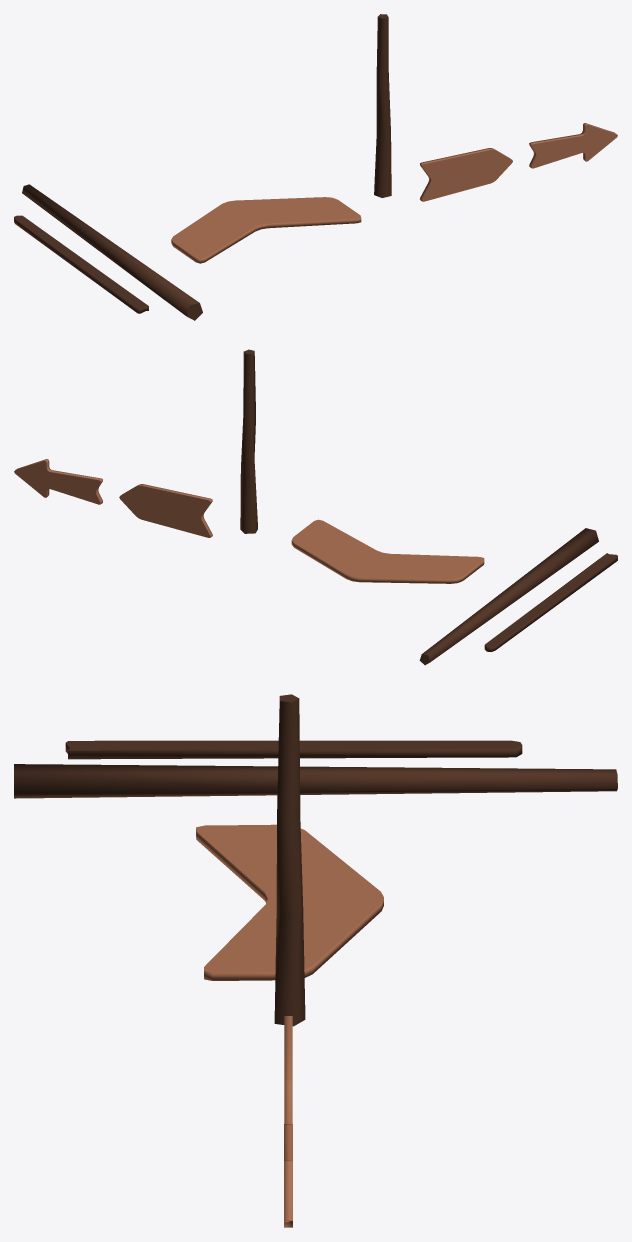
Rendered from Pointers_Smooth.fbx.
3 renders of one model, top to bottom at view 1: azimuth 30°, elevation 25°; view 2: azimuth 150°, elevation 25°; view 3: azimuth 270°, elevation 25°, orthographic. The views are drawn at different scales.
Parts seen in each view (by area): view 1: Pointer_Floo_Smoothr, Board_Smooth_01, Pointer_Pillar_Smooth_02, Pillar_Smooth_01, Pointer_Pillar_Smooth_01, Board_Smooth_02; view 2: Pointer_Floo_Smoothr, Board_Smooth_01, Pointer_Pillar_Smooth_02, Pillar_Smooth_01, Pointer_Pillar_Smooth_01, Board_Smooth_02; view 3: Board_Smooth_01, Pointer_Floo_Smoothr, Pillar_Smooth_01, Board_Smooth_02, Pointer_Pillar_Smooth_02, Pointer_Pillar_Smooth_01.
Boxes of the visible parts, x1,y1,x2,y2 form: Pointer_Floo_Smoothr: [171, 197, 361, 263]; Board_Smooth_01: [22, 184, 202, 320]; Pointer_Pillar_Smooth_02: [419, 148, 512, 201]; Pillar_Smooth_01: [374, 14, 391, 197]; Pointer_Pillar_Smooth_01: [529, 123, 617, 168]; Board_Smooth_02: [14, 215, 148, 313]; Pointer_Floo_Smoothr: [291, 519, 484, 583]; Board_Smooth_01: [419, 528, 598, 665]; Pointer_Pillar_Smooth_02: [119, 484, 212, 537]; Pillar_Smooth_01: [240, 349, 257, 533]; Pointer_Pillar_Smooth_01: [14, 459, 102, 504]; Board_Smooth_02: [484, 553, 617, 651]; Board_Smooth_01: [14, 764, 617, 798]; Pointer_Floo_Smoothr: [196, 824, 383, 980]; Pillar_Smooth_01: [274, 694, 305, 1026]; Board_Smooth_02: [65, 740, 522, 759]; Pointer_Pillar_Smooth_02: [284, 1016, 292, 1123]; Pointer_Pillar_Smooth_01: [284, 1124, 292, 1227].
Size of the model in its own units: 901 by 310 by 483.
